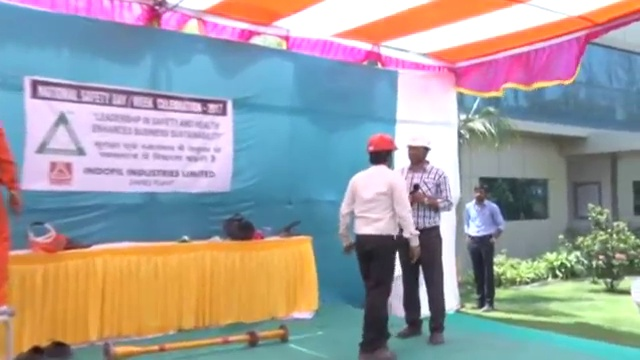helmet: (365, 132, 399, 153), (407, 135, 432, 152)
helmet_off: (470, 181, 489, 204)
helmet_on: (364, 132, 398, 169), (403, 134, 432, 174)
person: (337, 133, 416, 360), (401, 134, 452, 341), (461, 182, 505, 314)
